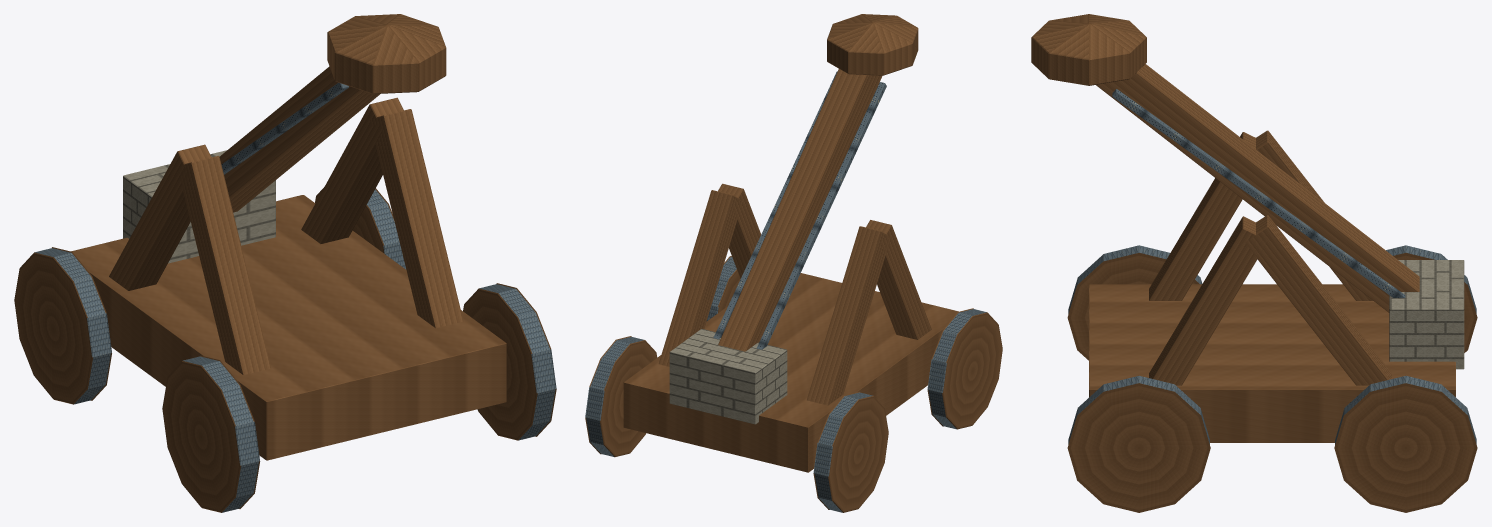
File: unit-CATAPULT-lod0.glb
The picture shows the model from 3 angles, left to right: view 1: azimuth 30°, elevation 25°; view 2: azimuth 150°, elevation 25°; view 3: azimuth 270°, elevation 25°; orthographic projection. The views are drawn at different scales.
Size of the model in its own units: 0.394 by 0.5559 by 0.5352.
Materials: 1 (1 with a texture image).
